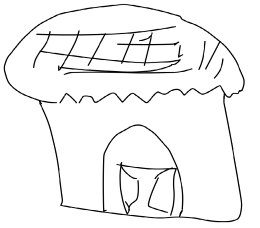big_house: (0, 0, 259, 227)
door: (113, 157, 186, 222)
roof: (2, 1, 254, 110)
wall: (38, 91, 246, 224)
